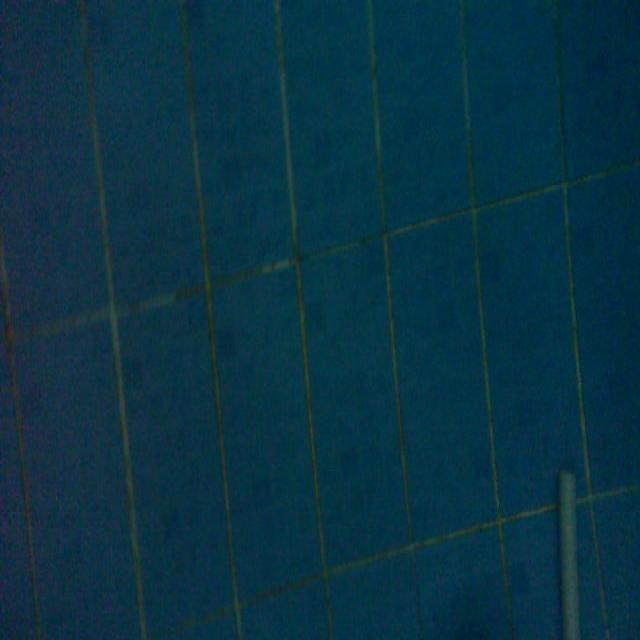Cube: (555, 464, 582, 636)
